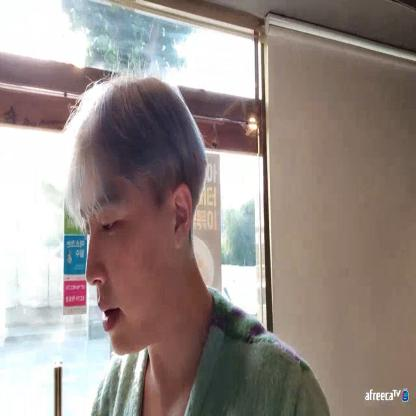streamer: (52, 72, 330, 416)
